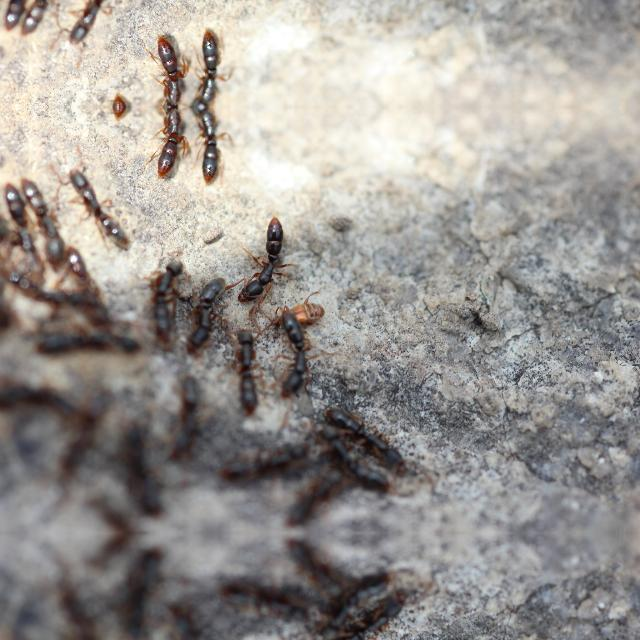Ponera: (227, 205, 306, 312), (42, 386, 118, 489), (65, 152, 131, 252), (318, 422, 402, 500), (316, 564, 402, 640), (336, 399, 426, 466), (274, 458, 352, 532), (274, 533, 352, 607), (172, 106, 234, 190), (172, 22, 234, 106), (202, 438, 314, 484), (202, 581, 314, 627), (27, 318, 141, 362), (42, 574, 118, 640), (137, 248, 185, 350), (158, 370, 208, 460), (139, 106, 195, 186), (139, 26, 195, 106), (121, 418, 162, 520), (0, 178, 46, 268), (222, 318, 262, 419), (120, 544, 162, 640), (28, 178, 72, 268), (65, 0, 131, 60), (334, 598, 426, 640), (276, 308, 318, 399), (17, 272, 101, 314), (5, 380, 76, 426), (184, 262, 216, 342), (158, 604, 208, 640), (0, 0, 46, 34), (26, 0, 71, 32)
